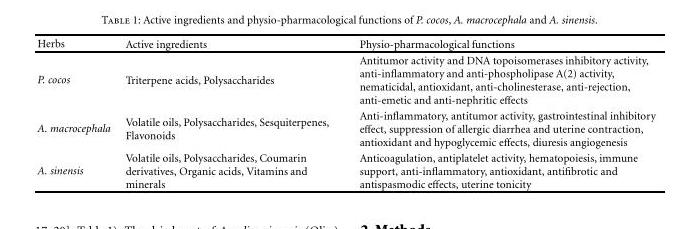table: (36, 36, 654, 189)
table column: (343, 36, 654, 189), (117, 36, 343, 189), (36, 36, 117, 189)
table column header: (36, 36, 654, 51)
table row: (36, 51, 654, 107), (36, 107, 654, 149), (36, 149, 654, 189), (36, 36, 654, 51)
